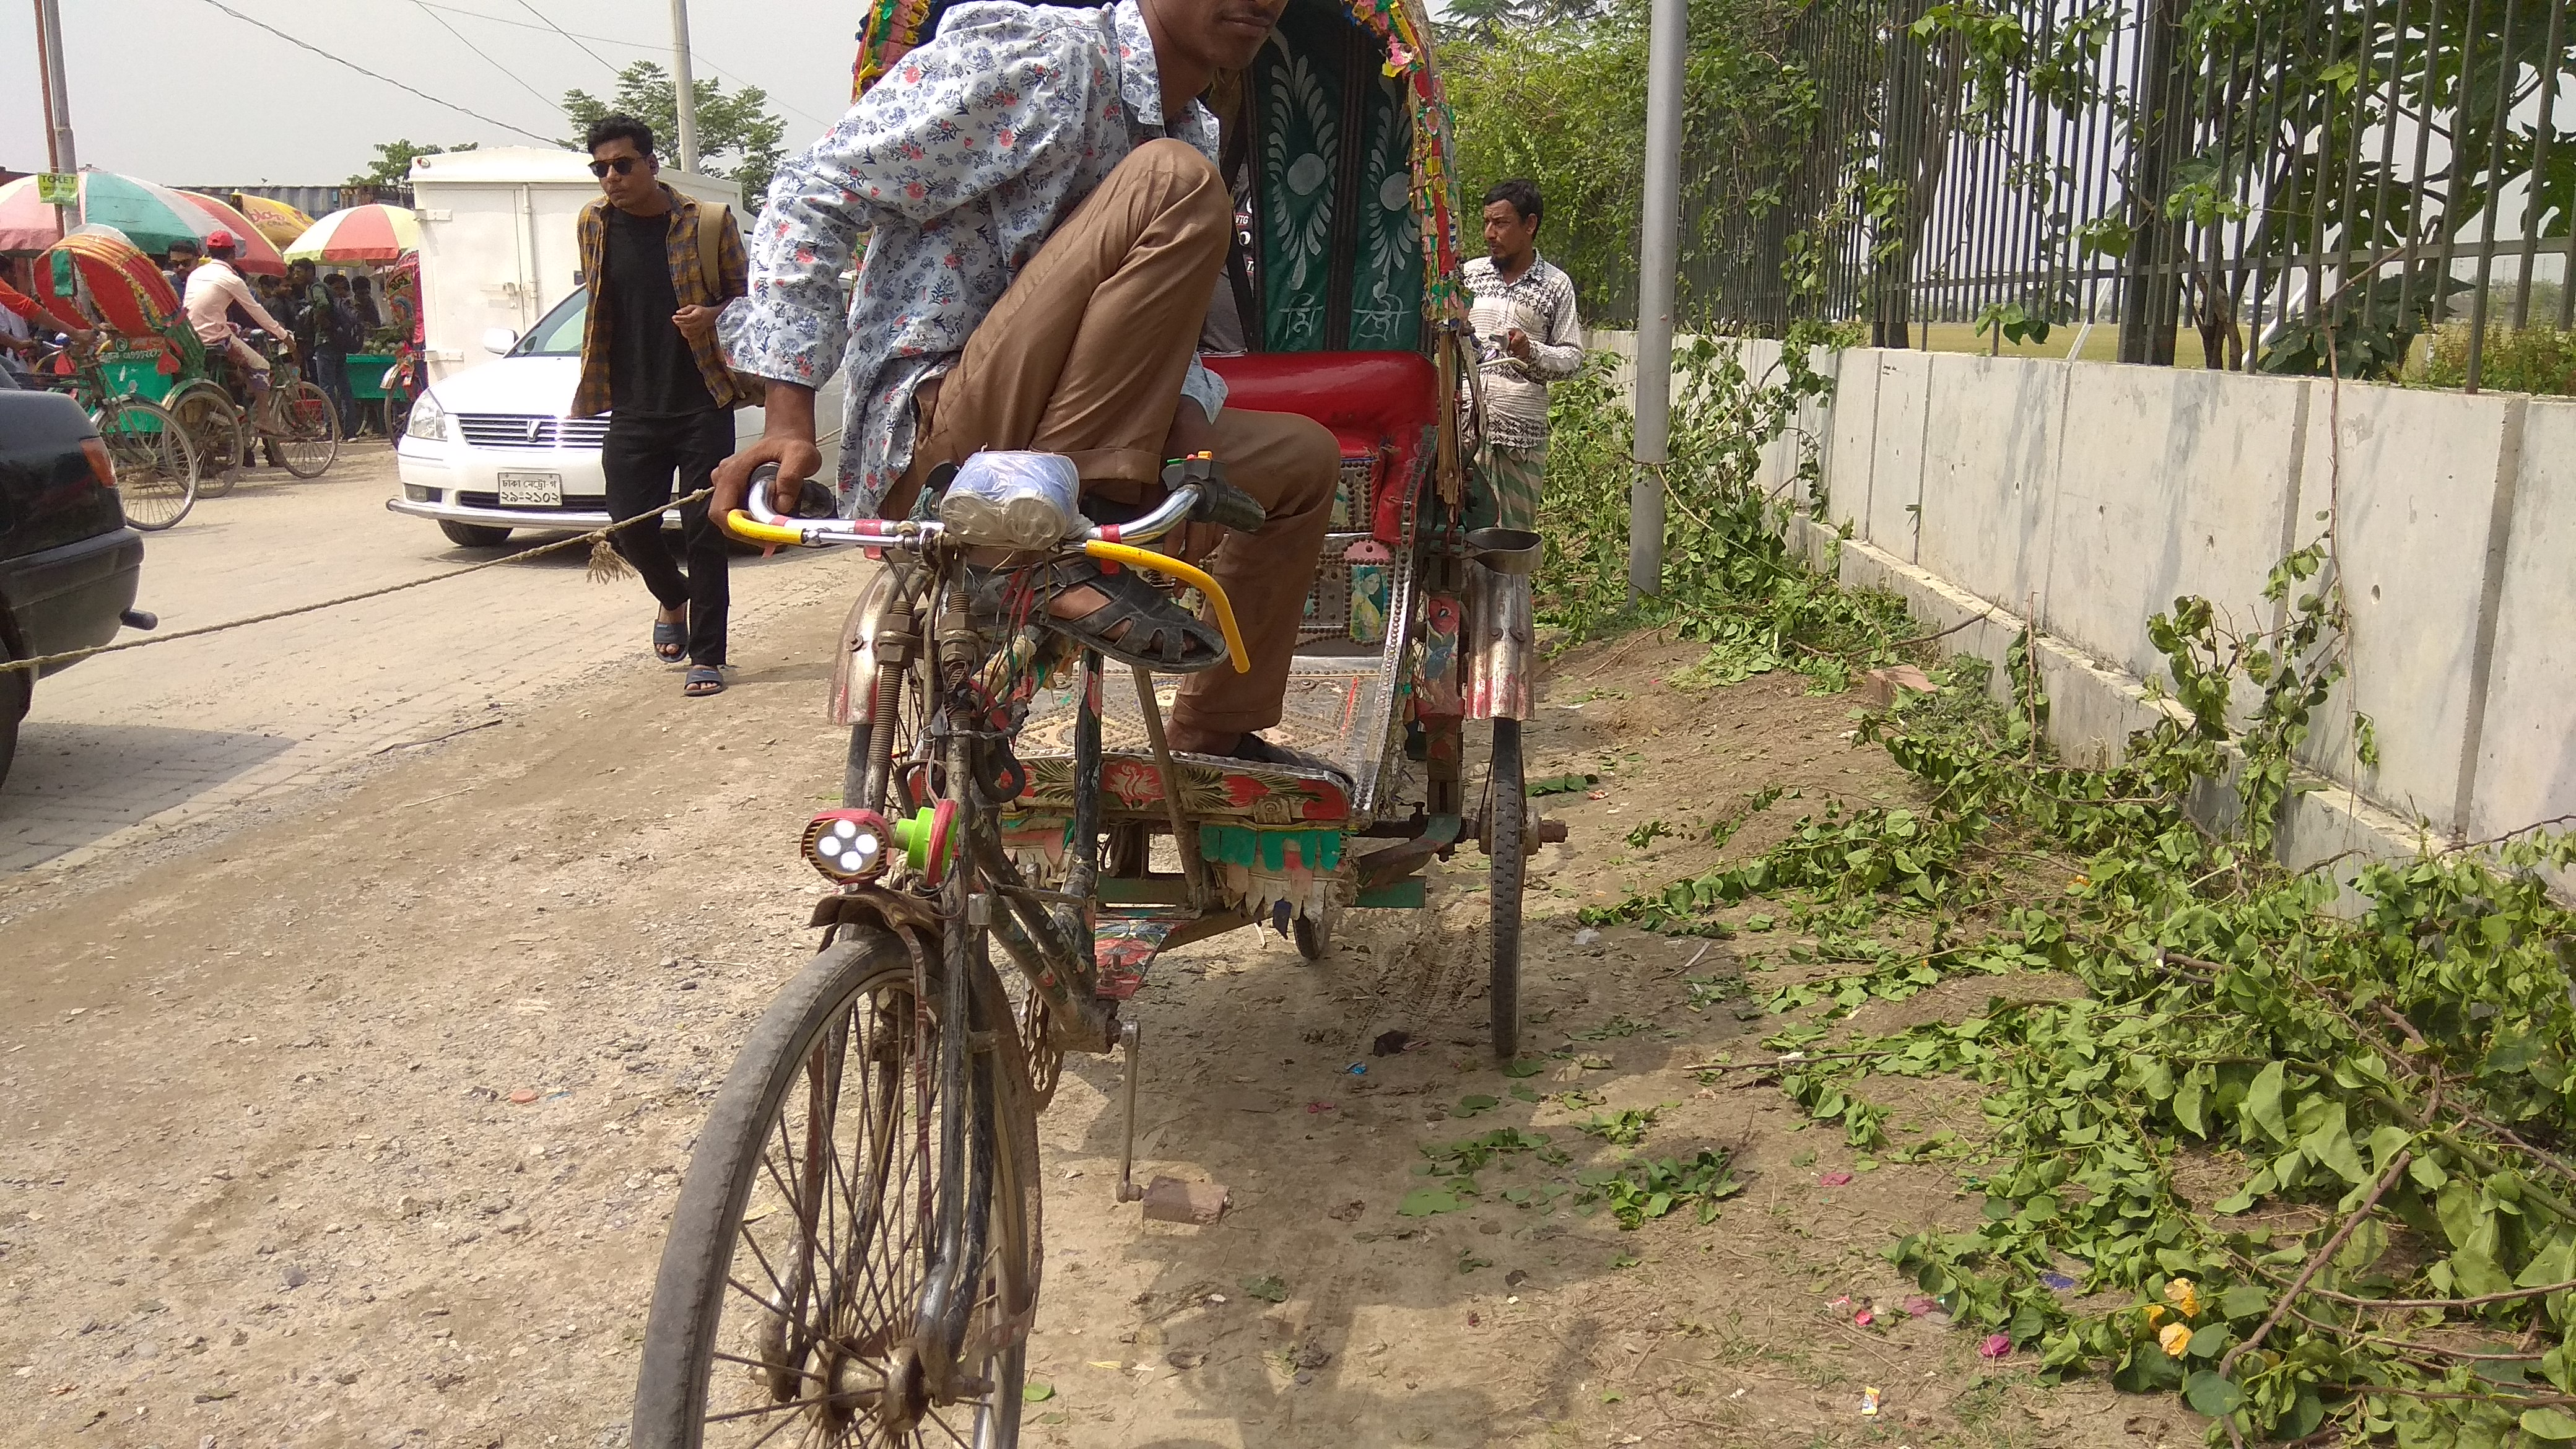Rickshaw: (709, 9, 1522, 1447), (27, 216, 336, 533)
